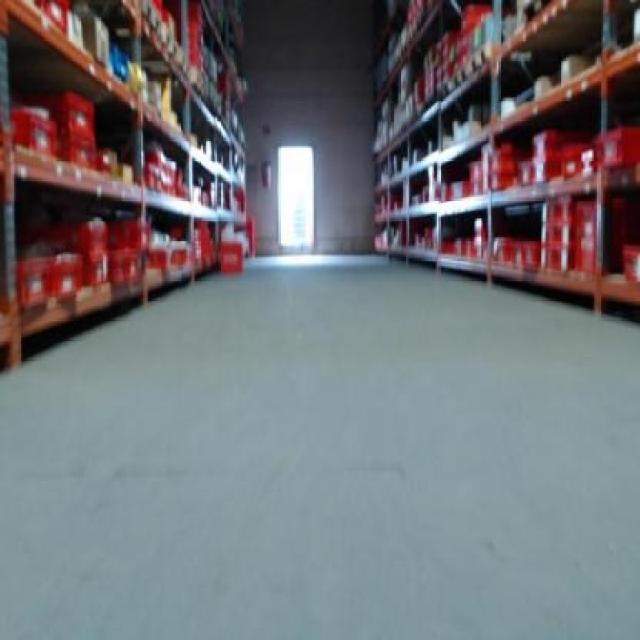floor: (0, 255, 637, 637)
pallets: (372, 0, 637, 308)
